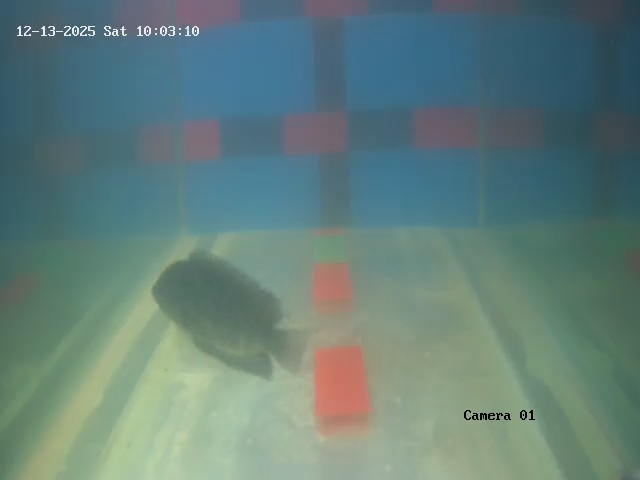fish: (152, 252, 281, 369)
